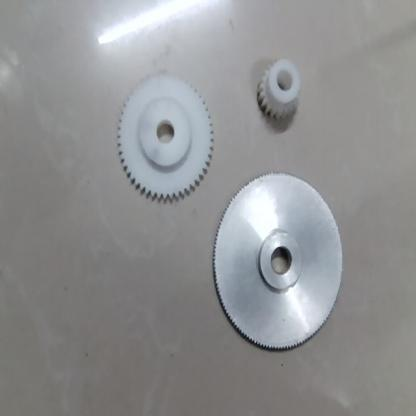FOD: (210, 168, 356, 357), (115, 77, 218, 208), (252, 58, 308, 135)
